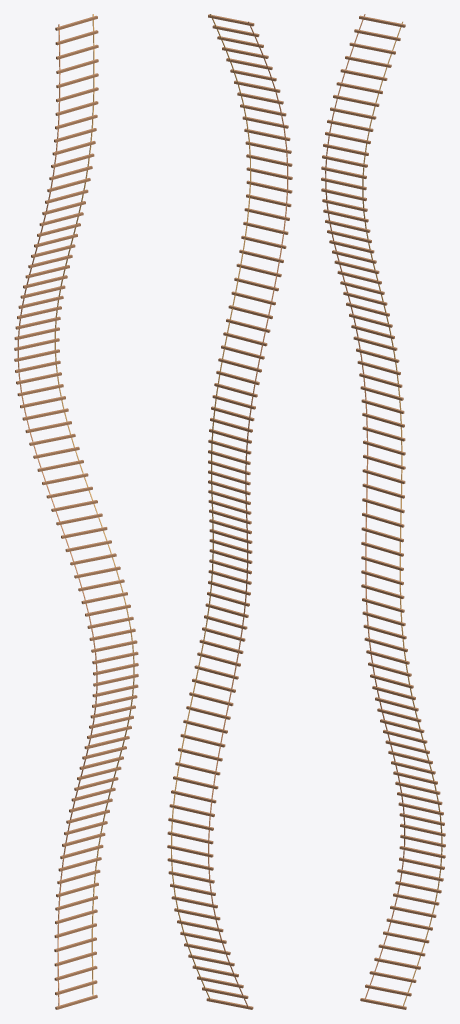
Rendered from Reward_Celebration.fbx.
3 views of the same model, side by side, from view 1: azimuth 30°, elevation 25°; view 2: azimuth 150°, elevation 25°; view 3: azimuth 330°, elevation 25° (orthographic).
Parts seen in each view (by area): view 1: Reward_Celebration; view 2: Reward_Celebration; view 3: Reward_Celebration.
Boxes of the visible parts, x1=… form: Reward_Celebration: x1=14, y1=14, x2=138, y2=1009; Reward_Celebration: x1=167, y1=14, x2=292, y2=1009; Reward_Celebration: x1=321, y1=14, x2=445, y2=1009.
Bounding box in the file's own units: 7 × 65.08 × 4.33.
